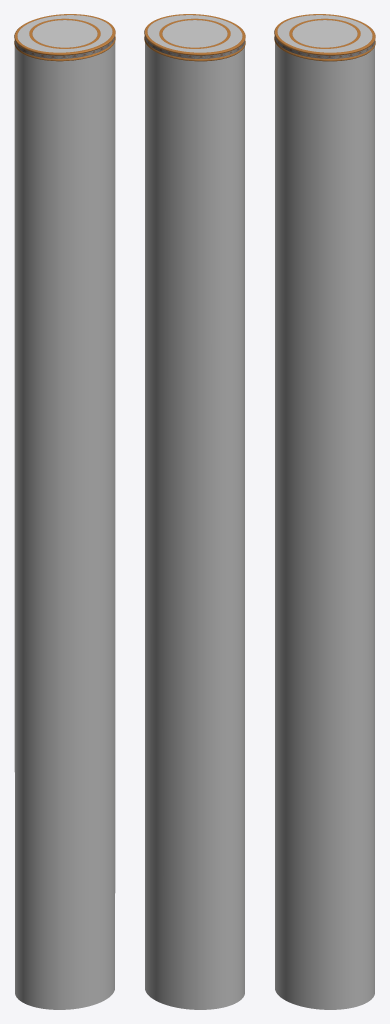
File: SM_Plateforme_Garden_02.fbx
3 renders of one model, left to right at view 1: azimuth 30°, elevation 25°; view 2: azimuth 150°, elevation 25°; view 3: azimuth 330°, elevation 25°, orthographic.
Parts seen in each view (by area): view 1: SM_Plateforme_Garden_02; view 2: SM_Plateforme_Garden_02; view 3: SM_Plateforme_Garden_02.
Boxes of the visible parts, x1=… form: SM_Plateforme_Garden_02: x1=14, y1=14, x2=115, y2=1009; SM_Plateforme_Garden_02: x1=144, y1=14, x2=245, y2=1009; SM_Plateforme_Garden_02: x1=274, y1=14, x2=375, y2=1009.
Bounding box in the file's own units: 13.58 × 138 × 12.06.
